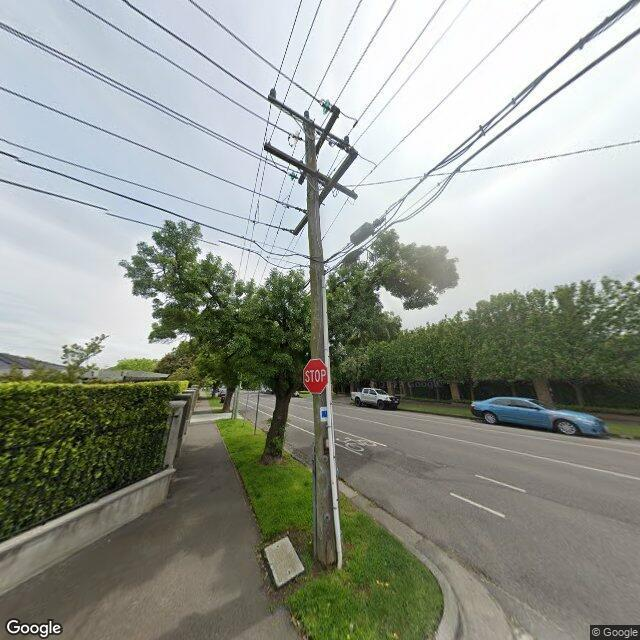HV-transmission: (266, 88, 358, 153)
crossarm: (294, 150, 358, 236), (264, 142, 358, 200), (268, 95, 346, 146), (298, 108, 340, 186)
timber-pole: (306, 120, 339, 566)
